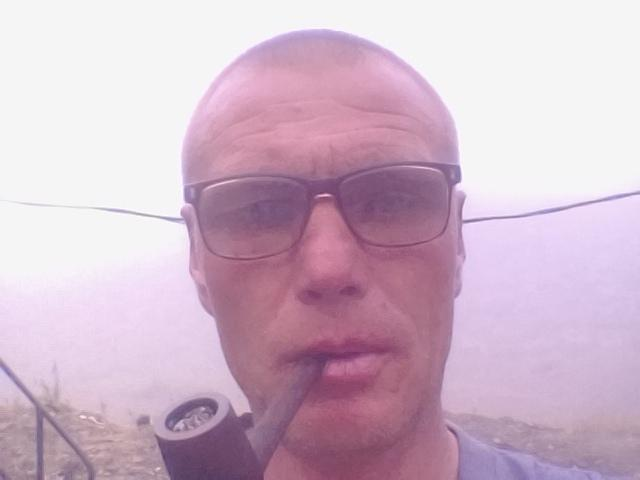trubka: (152, 354, 326, 480)
